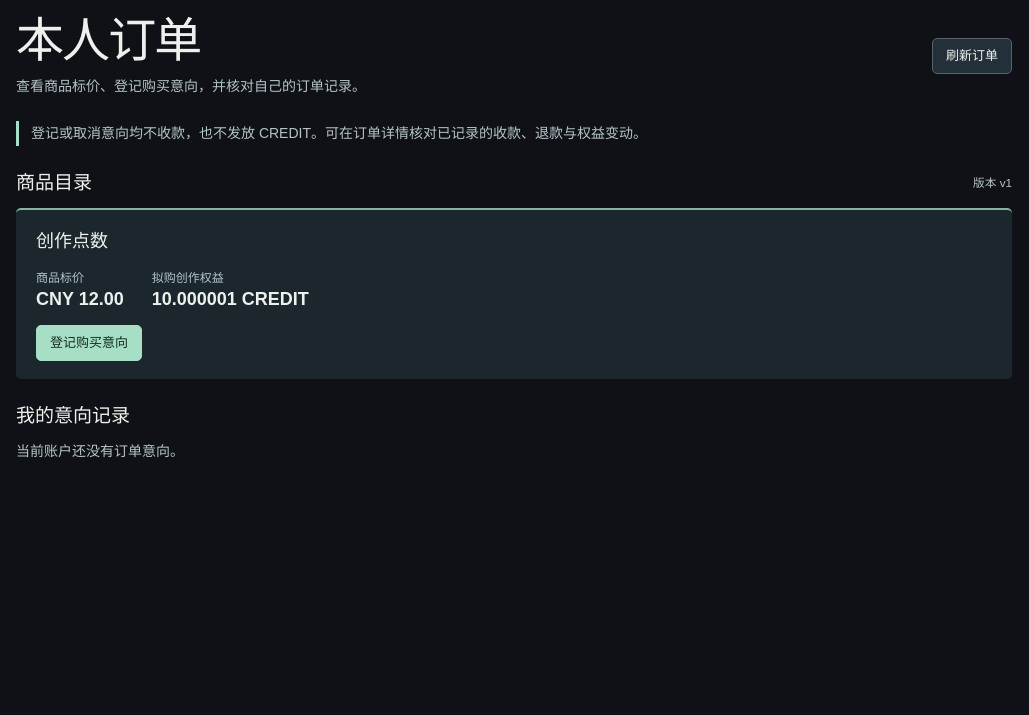
refreshes a changed catalog and requires a fresh explicit review, leaving the rejected operation unrecorded
Click the button "登记购买意向": (89, 343) [36,325,142,361]
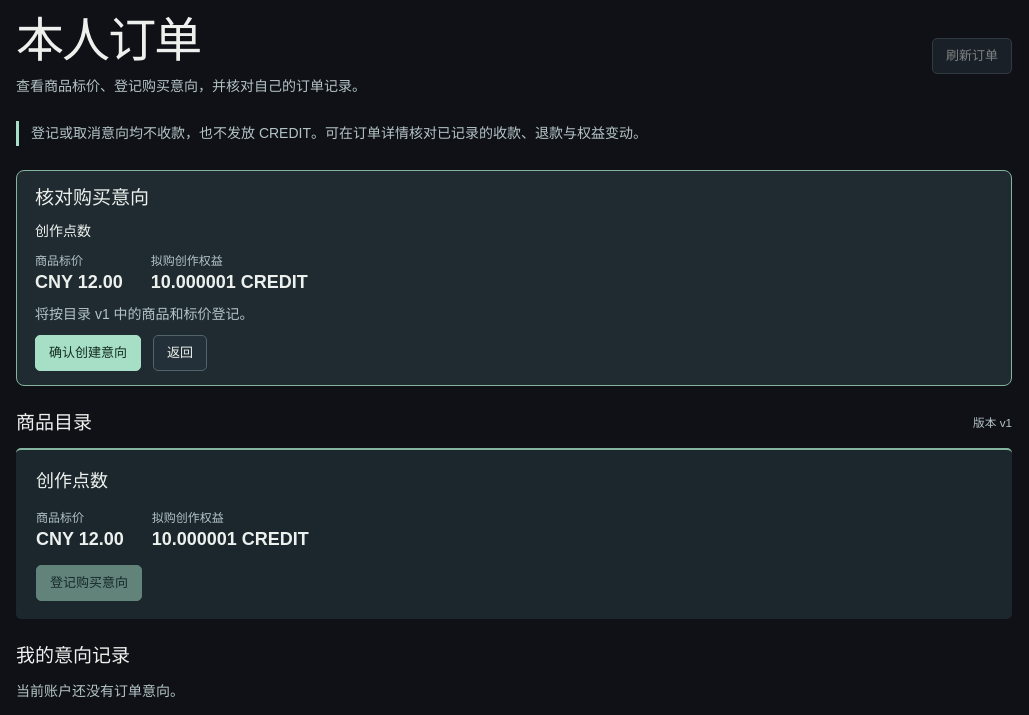
Now the button "确认创建意向" is shown
Now the button "确认创建意向" is enabled
Click the button "确认创建意向": (88, 353) [35,335,141,371]
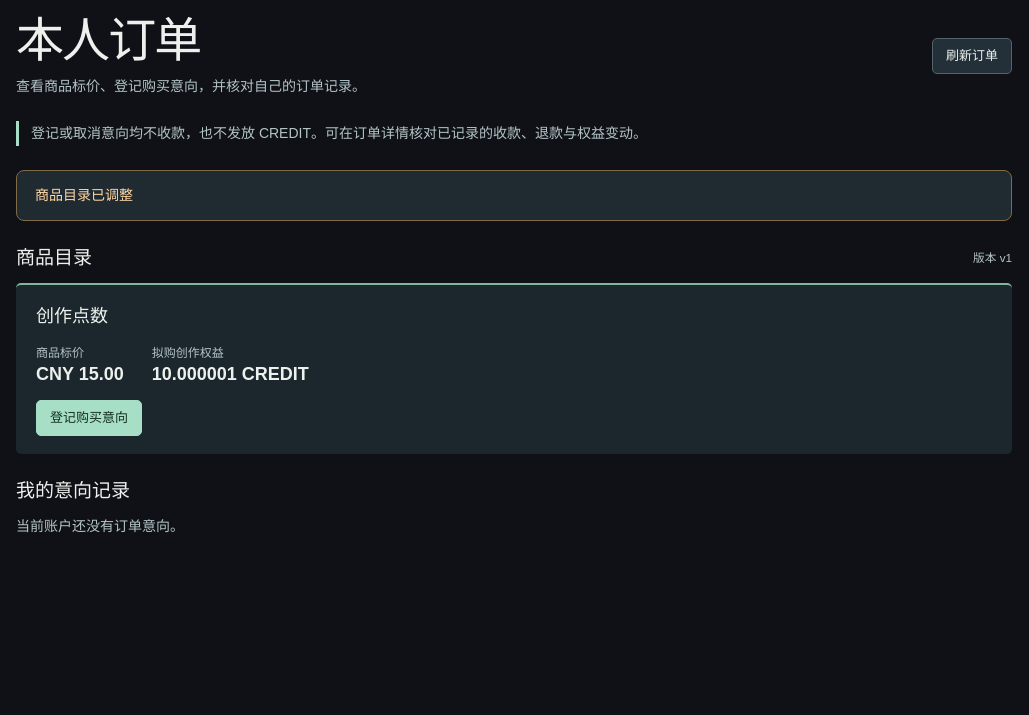
Now the text "CNY 15.00" is shown, box [36,362,124,386]
